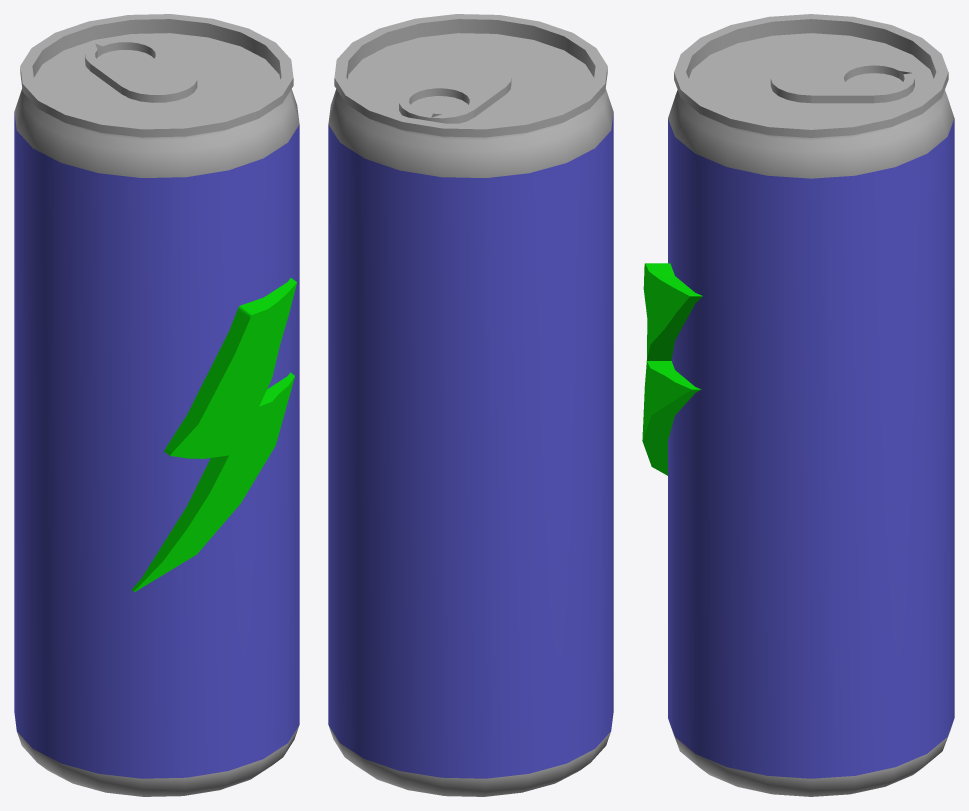
Rendered from energy_drink.fbx.
3 views of the same model, side by side, from view 1: azimuth 30°, elevation 25°; view 2: azimuth 150°, elevation 25°; view 3: azimuth 270°, elevation 25° (orthographic).
Visible parts, largest first — view 1: can, bolt, tab; view 2: can, tab; view 3: can, bolt, tab.
Boxes of the visible parts, x1,y1,x2,y2 form: can: (14,14,299,796); bolt: (132,278,296,591); tab: (85,38,197,102); can: (328,14,613,796); tab: (399,61,511,123); can: (668,14,954,796); bolt: (642,263,702,475); tab: (770,61,914,103).
Size of the model in its own units: 6.36 by 16.45 by 6.93.
